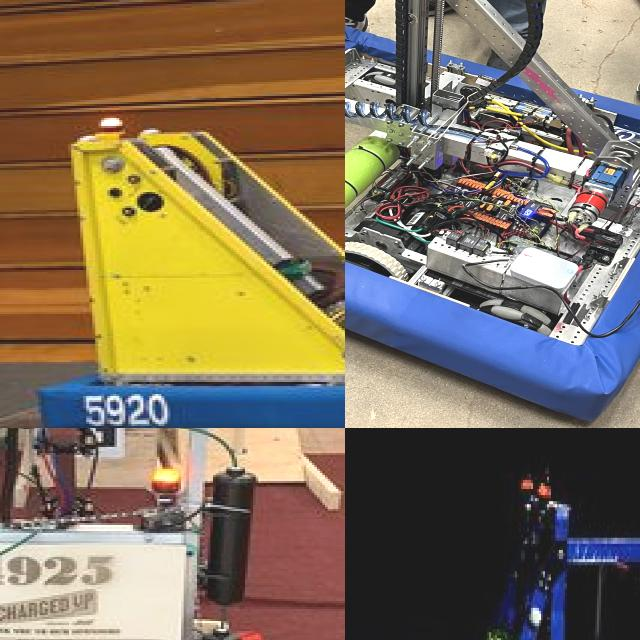FRC-Robots: (0, 0, 345, 428), (345, 0, 640, 428), (0, 428, 345, 640), (345, 440, 640, 640)
